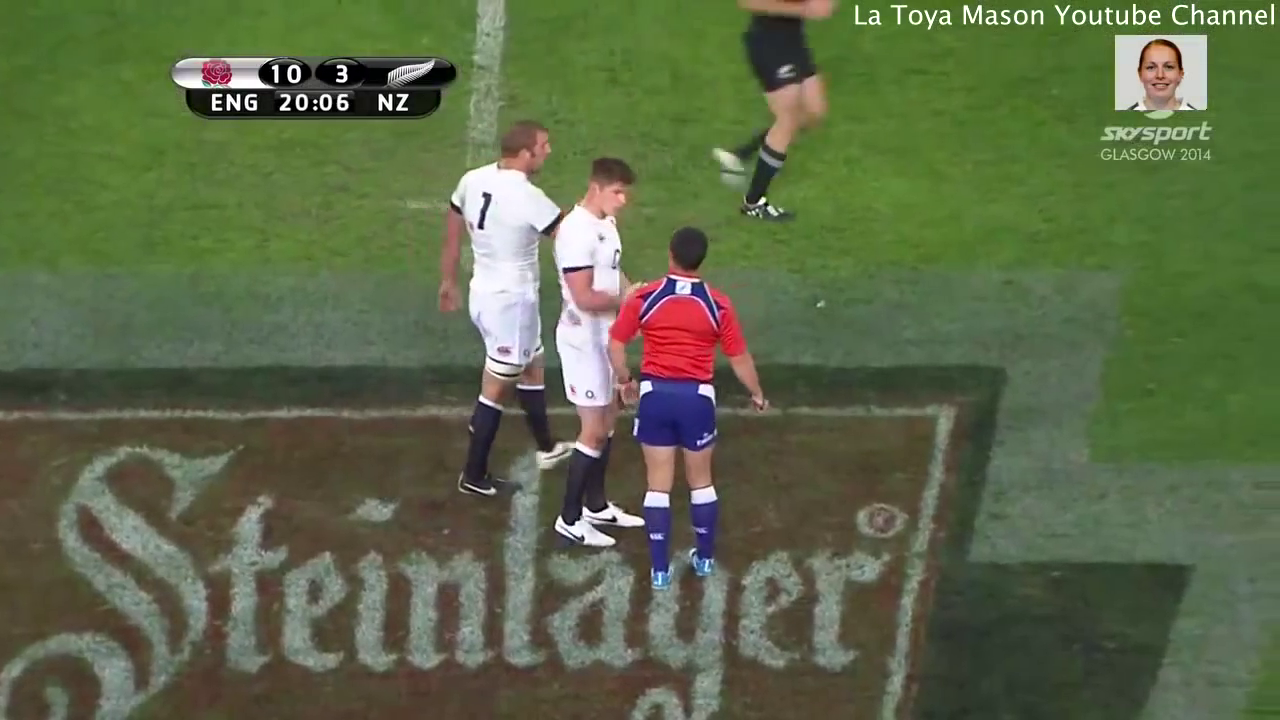player: (599, 218, 773, 600), (437, 116, 571, 504), (545, 148, 649, 553), (697, 1, 853, 223)
